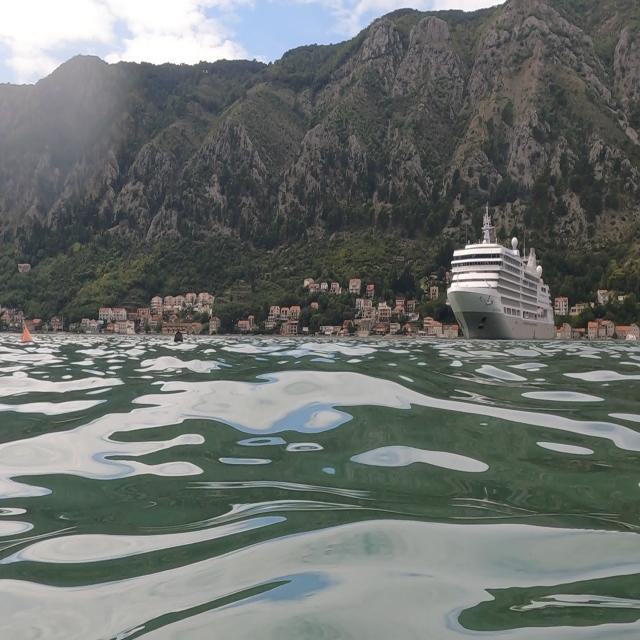boat: (444, 199, 558, 344)
buoy: (17, 318, 38, 356), (173, 324, 186, 354)
